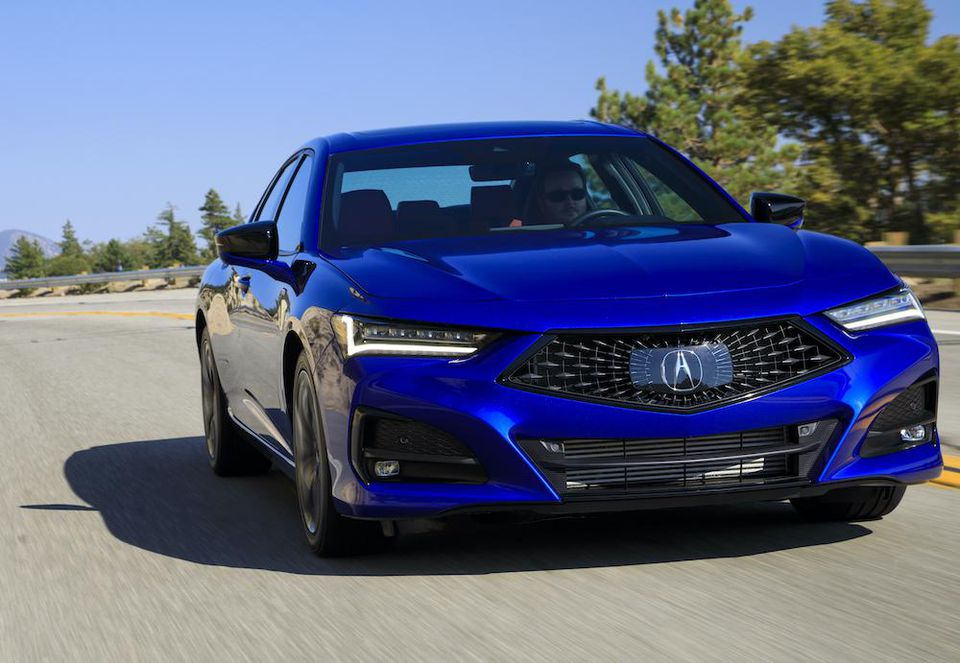car: (194, 119, 943, 561)
